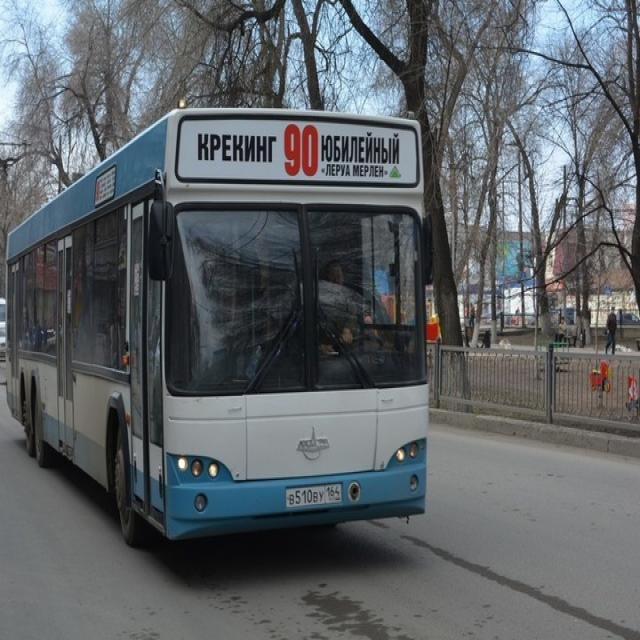number-of-bus: (281, 116, 322, 180)
